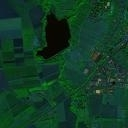alloviz: (35, 10, 72, 59)
